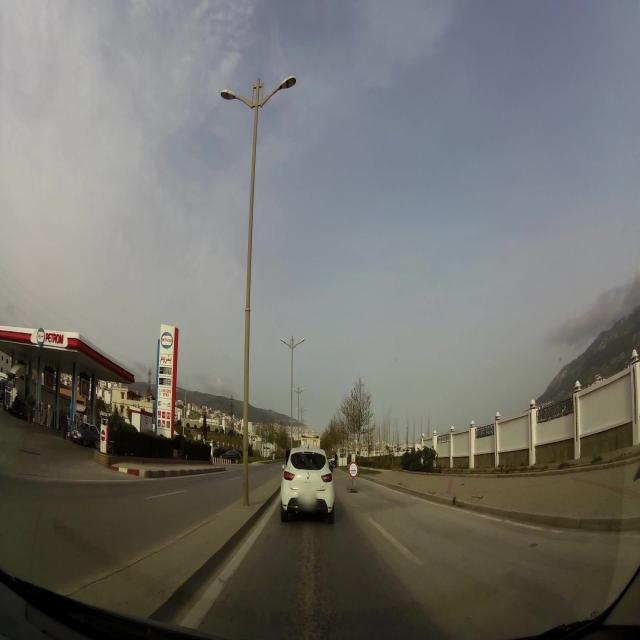car: (280, 446, 334, 524), (74, 422, 103, 448)
